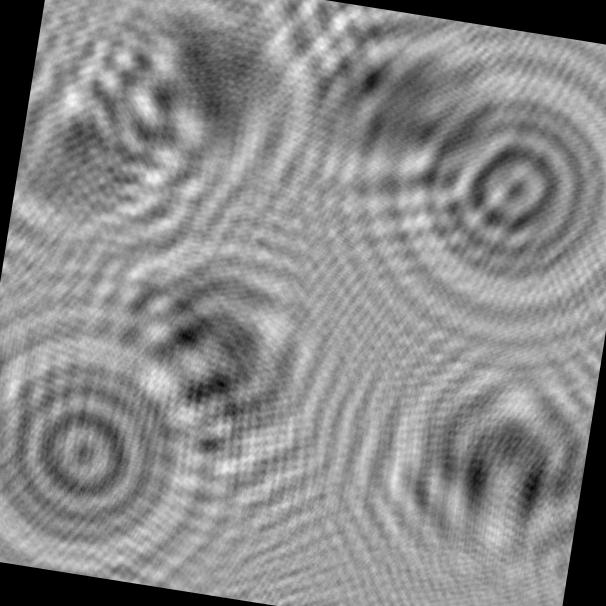K: (77, 0, 345, 212)
L: (5, 15, 232, 274)
M: (61, 199, 366, 514), (341, 322, 602, 606)
N: (247, 0, 511, 215)
O: (0, 297, 240, 593), (384, 24, 606, 333)
